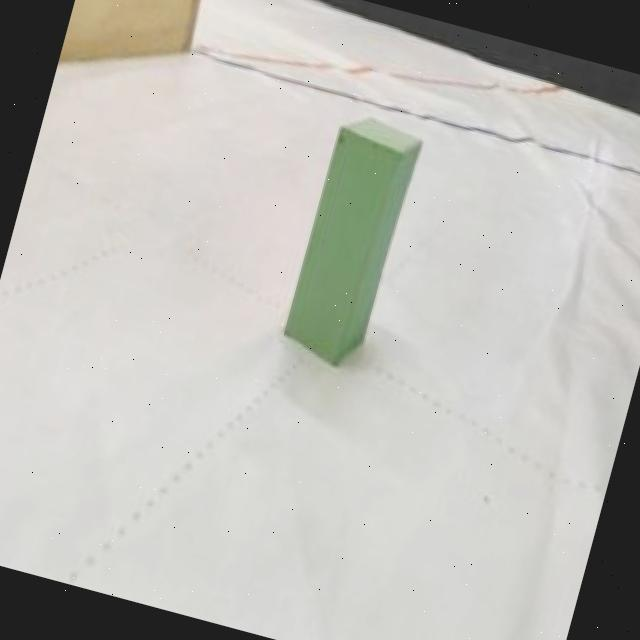greenbox: (276, 104, 429, 373)
